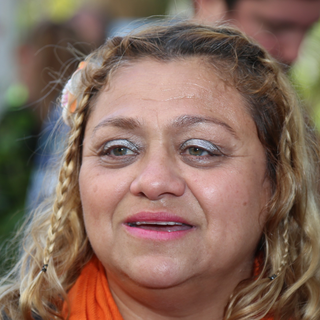eye: (169, 134, 235, 167), (90, 134, 147, 167)
